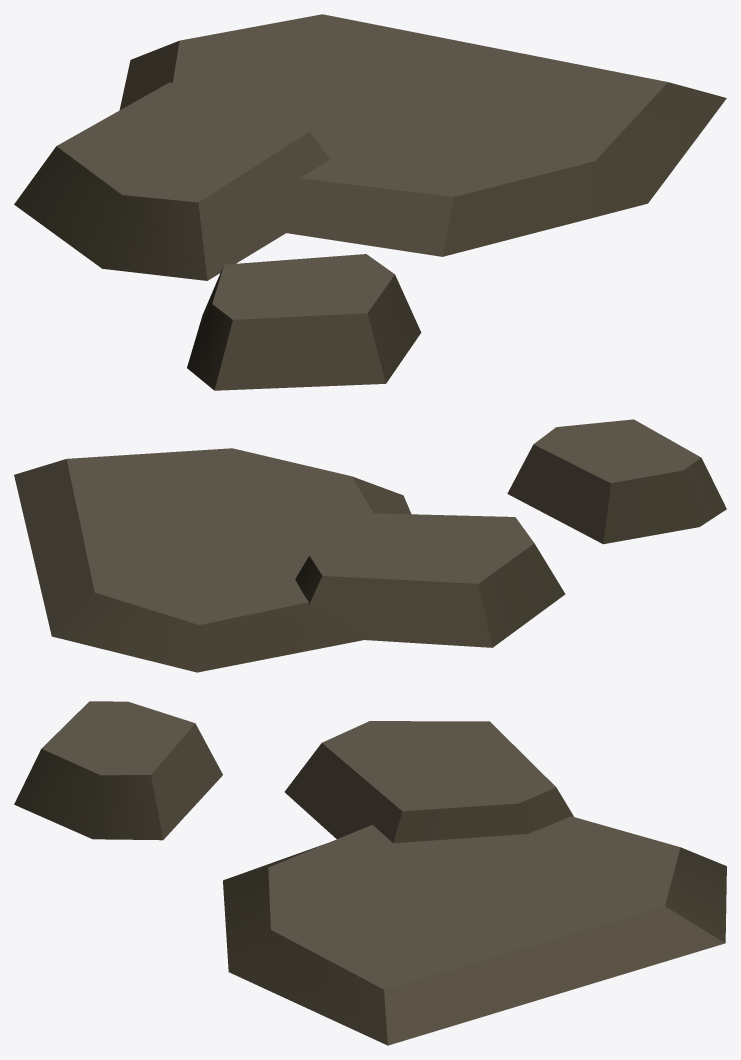
The model's file is SF_Env_Undead_Rock_02.fbx.
The picture shows the model from 3 angles, top to bottom: view 1: azimuth 30°, elevation 25°; view 2: azimuth 150°, elevation 25°; view 3: azimuth 270°, elevation 25°; orthographic projection. The views are drawn at different scales.
Parts seen in each view (by area): view 1: SF_Env_Undead_Rock_02; view 2: SF_Env_Undead_Rock_02; view 3: SF_Env_Undead_Rock_02.
Boxes of the visible parts, x1,y1,x2,y2 form: SF_Env_Undead_Rock_02: (14, 14, 726, 390); SF_Env_Undead_Rock_02: (14, 419, 726, 672); SF_Env_Undead_Rock_02: (14, 701, 726, 1045).
Bounding box in the file's own units: 5.23 × 0.4416 × 5.24.
